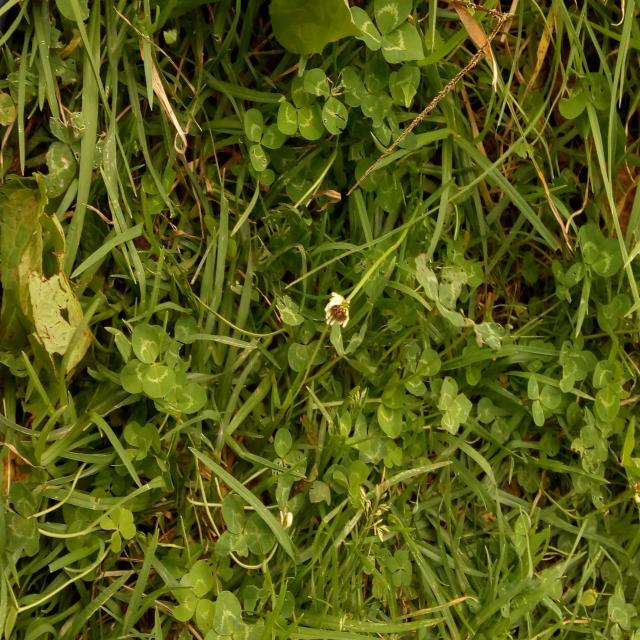Four Leaf Clover: (123, 420, 154, 463)
